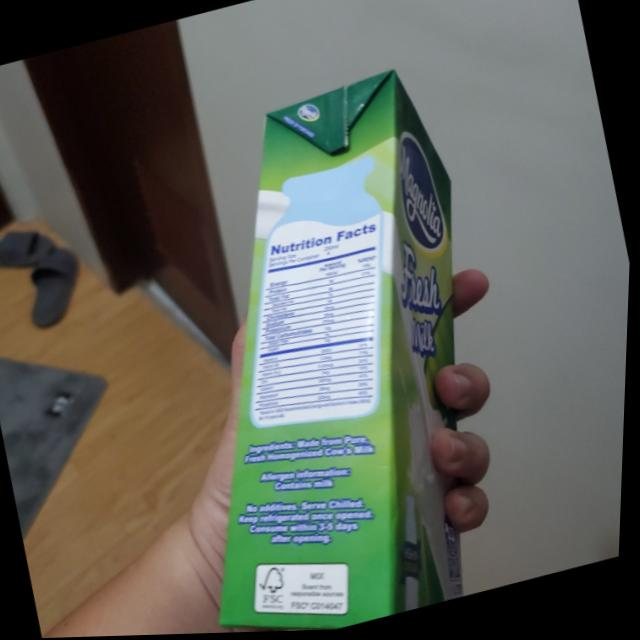milk: (107, 57, 548, 637)
